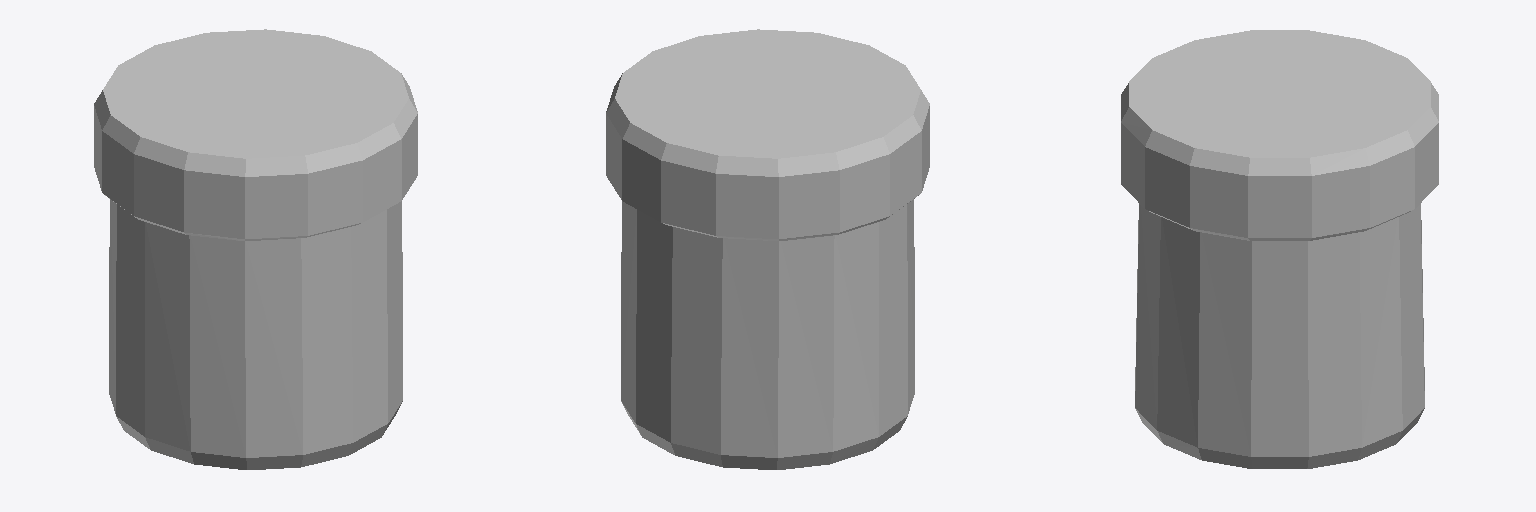
File: tin_A_brown.obj
The picture shows the model from 3 angles: view 1: azimuth 30°, elevation 25°; view 2: azimuth 150°, elevation 25°; view 3: azimuth 270°, elevation 25°; orthographic projection.
Parts seen in each view (by area): view 1: tin_A_brown; view 2: tin_A_brown; view 3: tin_A_brown.
Part boxes in pixels (x1,y1,x2,y2): tin_A_brown: (94, 29, 417, 469); tin_A_brown: (606, 29, 929, 469); tin_A_brown: (1121, 30, 1438, 468).
Size of the model in its own units: 0.4 by 0.4485 by 0.4.